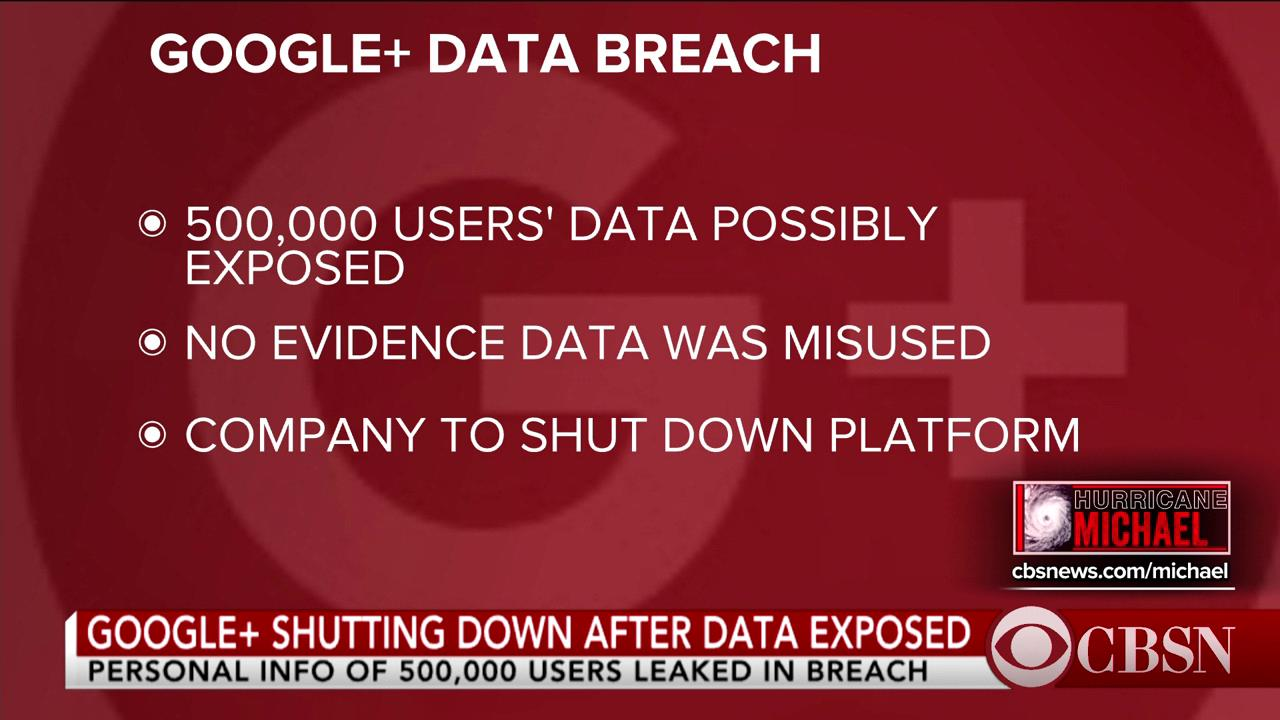500,000 USERS' DATA POSSIBLY: (185, 199, 942, 245)
CBSN: (1075, 623, 1238, 677)
COMPANY TO SHUTDOWN PLATFORM: (185, 413, 1083, 459)
EXPOSED: (184, 247, 407, 288)
GOOGLE+ DATA BREACH: (148, 28, 824, 77)
GOOGLE+ SHUTTING DOWN AFTER DATA EXPOSED: (86, 611, 970, 649)
HURRICANE: (1074, 485, 1227, 511)
MICHAEL: (1072, 509, 1211, 547)
NO EVIDENCE DATA WAS MISUSED: (184, 319, 993, 363)
PERSONAL INFO OF 500__000 USERS LEAKED IN BREACH: (86, 655, 931, 687)
cbsnews.com/michael: (1010, 560, 1232, 582)
